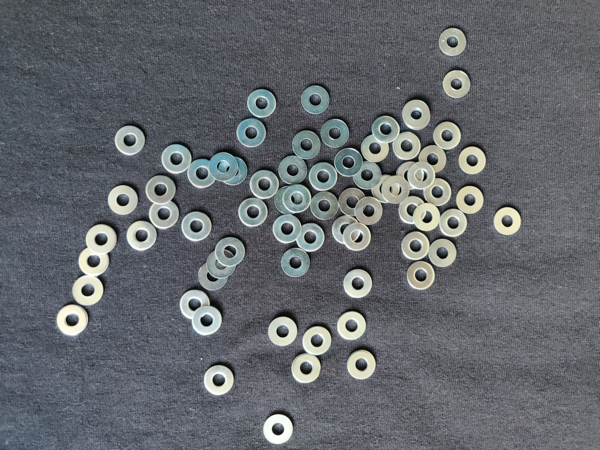circle: (57, 302, 90, 338), (113, 123, 148, 156), (434, 27, 469, 59), (290, 354, 324, 386), (160, 142, 195, 173), (268, 314, 300, 347), (263, 414, 296, 446), (73, 275, 106, 307), (335, 312, 370, 342), (107, 184, 140, 215), (191, 307, 225, 337), (401, 99, 433, 130), (277, 154, 308, 186), (235, 116, 267, 147), (295, 222, 326, 254), (125, 220, 157, 251), (281, 248, 313, 279), (204, 366, 236, 397), (77, 246, 109, 277), (440, 68, 473, 98), (300, 83, 330, 116), (186, 158, 219, 188), (291, 129, 322, 160), (272, 214, 303, 245), (149, 199, 180, 230), (180, 290, 211, 321), (86, 225, 117, 256), (310, 190, 340, 222), (181, 212, 213, 242), (214, 237, 246, 267), (392, 131, 422, 162), (320, 118, 350, 149), (246, 88, 277, 118), (302, 326, 333, 356), (360, 132, 389, 164), (237, 198, 269, 227), (145, 175, 177, 204), (369, 113, 399, 143), (198, 263, 228, 293), (347, 351, 377, 381), (274, 185, 303, 216), (344, 270, 375, 299), (404, 98, 431, 131), (432, 121, 462, 150), (458, 146, 488, 175), (407, 161, 436, 191), (342, 223, 372, 252), (308, 162, 338, 191), (250, 169, 279, 199), (402, 233, 431, 262), (332, 215, 361, 244), (206, 250, 235, 279), (419, 144, 447, 174), (382, 175, 410, 205), (456, 186, 486, 214), (428, 240, 458, 268), (407, 262, 437, 290), (339, 187, 367, 217), (220, 156, 248, 186), (396, 161, 423, 192), (398, 197, 429, 224), (334, 148, 362, 177), (372, 175, 400, 204), (494, 207, 523, 235), (355, 198, 383, 227), (352, 161, 382, 188), (283, 184, 311, 212), (210, 153, 238, 181), (439, 210, 468, 237), (413, 204, 442, 231), (424, 179, 451, 207)
